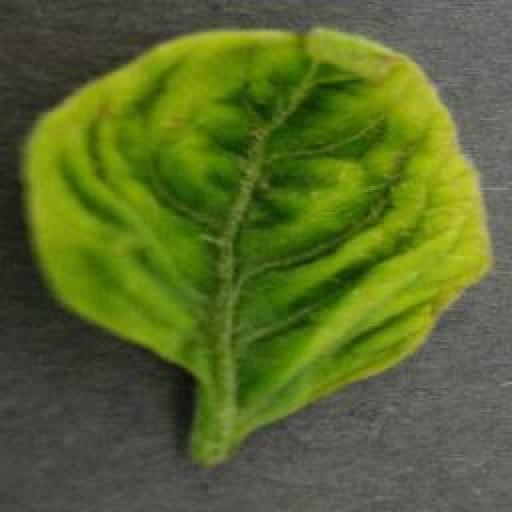Yellow Leaf Curl Virus: (23, 27, 493, 428)
